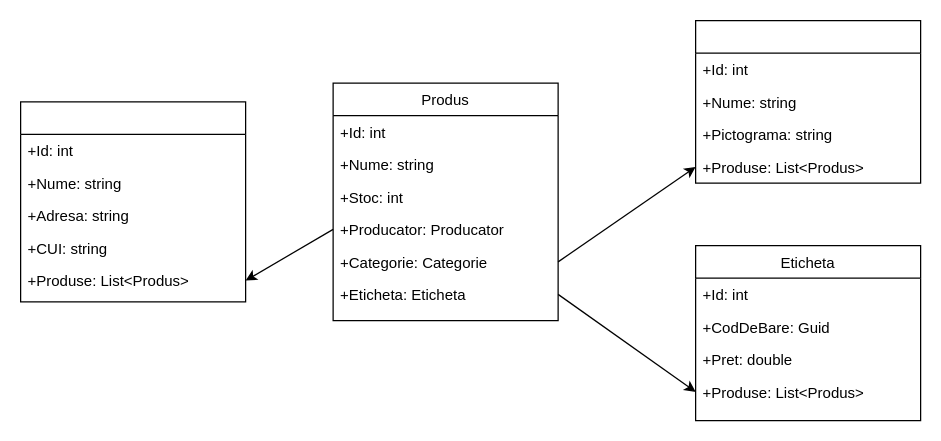
The diagram is 941 pixels wide and 441 high, and some of its shapes have lost their labels. Here are the shapes that lost their labels. From the top down, the box of each, then its label:
(694, 19, 921, 183): Categorie
(19, 101, 246, 302): Producator
